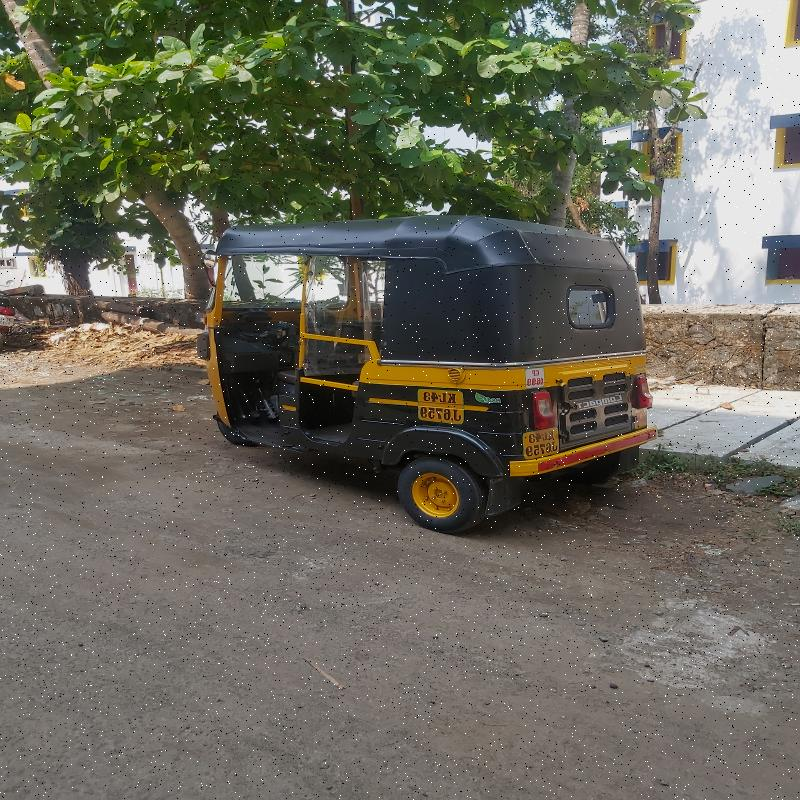auto: (210, 221, 648, 522)
